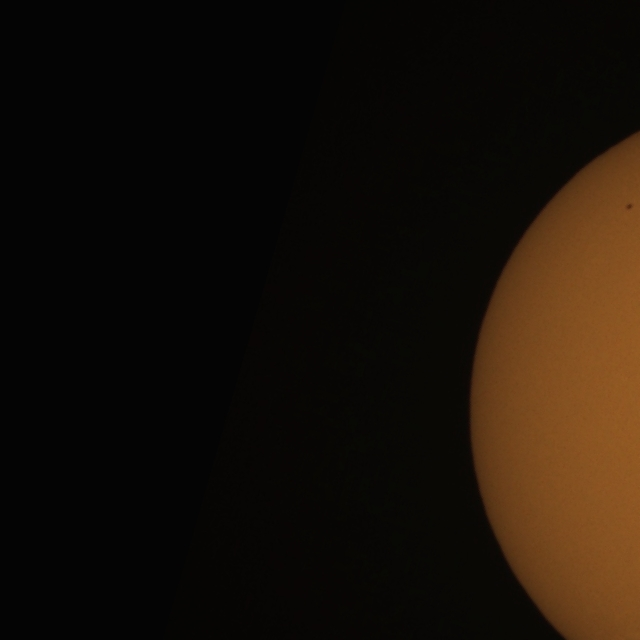sunspot: (625, 202, 634, 211)
